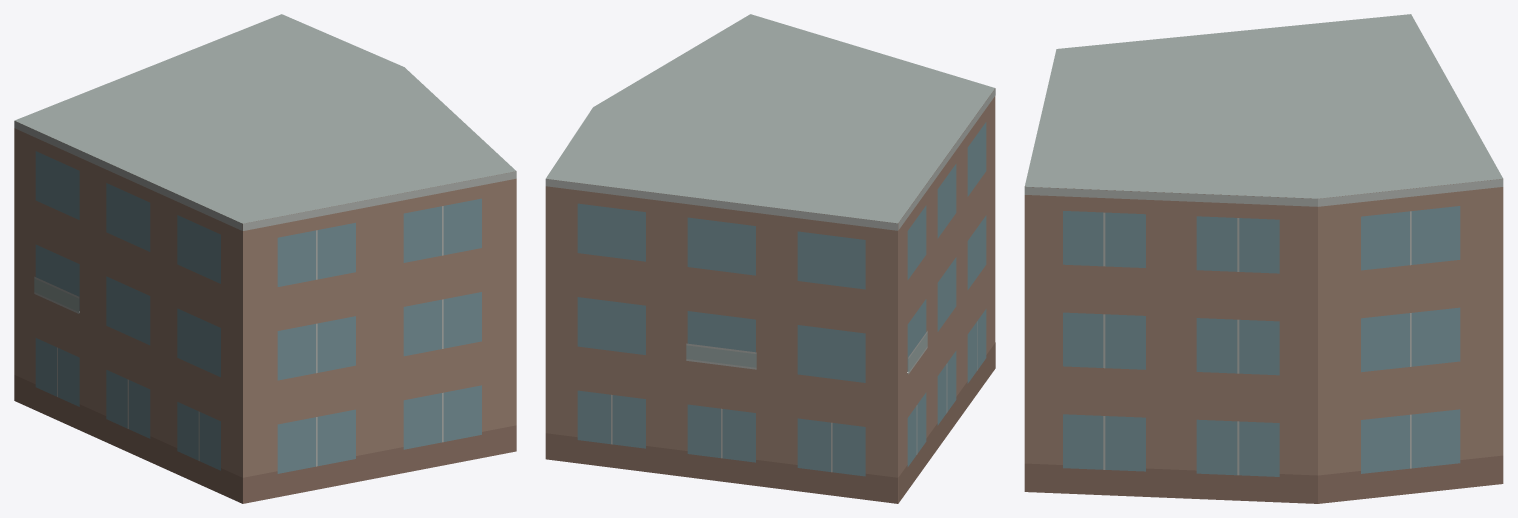
File: survey-upis-32603169.glb
3 renders of one model, left to right at view 1: azimuth 30°, elevation 25°; view 2: azimuth 150°, elevation 25°; view 3: azimuth 270°, elevation 25°, orthographic. The views are drawn at different scales.
Parts seen in each view (by area): view 1: survey-upis-32603169.tmp; view 2: survey-upis-32603169.tmp; view 3: survey-upis-32603169.tmp.
Part boxes in pixels (x1,y1,x2,y2): survey-upis-32603169.tmp: (14, 14, 516, 503); survey-upis-32603169.tmp: (545, 14, 995, 503); survey-upis-32603169.tmp: (1024, 14, 1503, 503).
Size of the model in its own units: 11.89 by 9.15 by 13.02.
